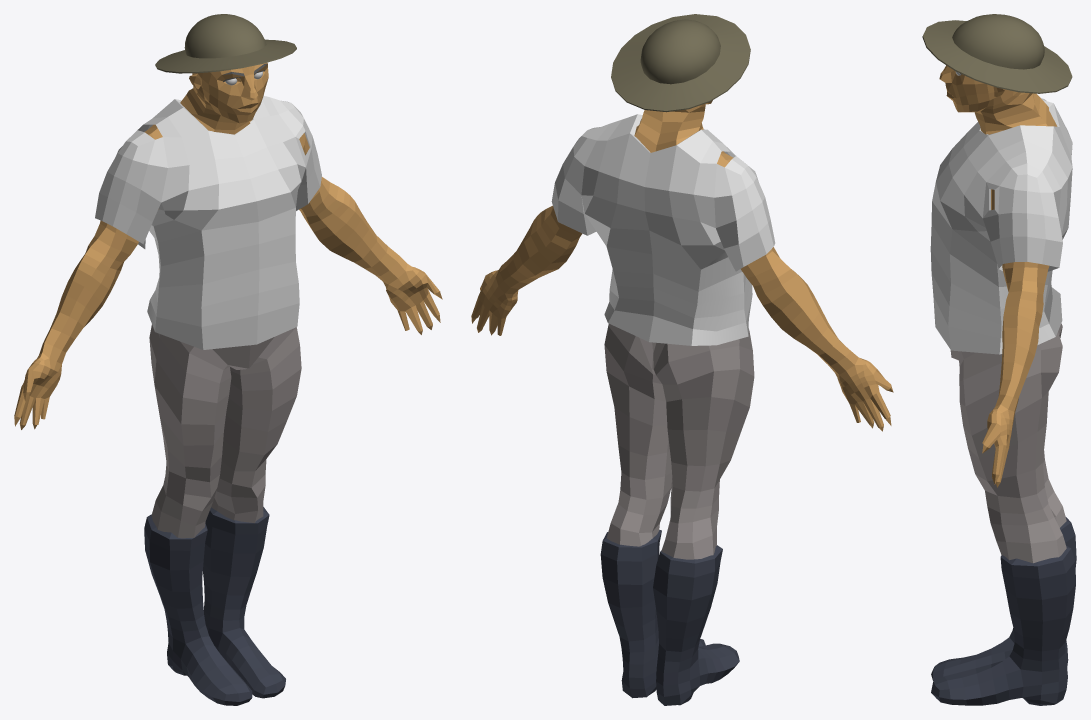
File: Farmer_v01.fbx
3 views of the same model, side by side, from view 1: azimuth 30°, elevation 25°; view 2: azimuth 150°, elevation 25°; view 3: azimuth 270°, elevation 25° (orthographic). The views are drawn at different scales.
Parts seen in each view (by area): view 1: body, hat1; view 2: body, hat1; view 3: body, hat1.
Boxes of the visible parts, x1,y1,x2,y2 form: body: [14, 62, 442, 705]; hat1: [155, 14, 296, 73]; body: [471, 100, 893, 705]; hat1: [611, 14, 750, 112]; body: [930, 65, 1076, 705]; hat1: [922, 14, 1072, 93].
Size of the model in its own units: 134 by 199 by 41.28.
